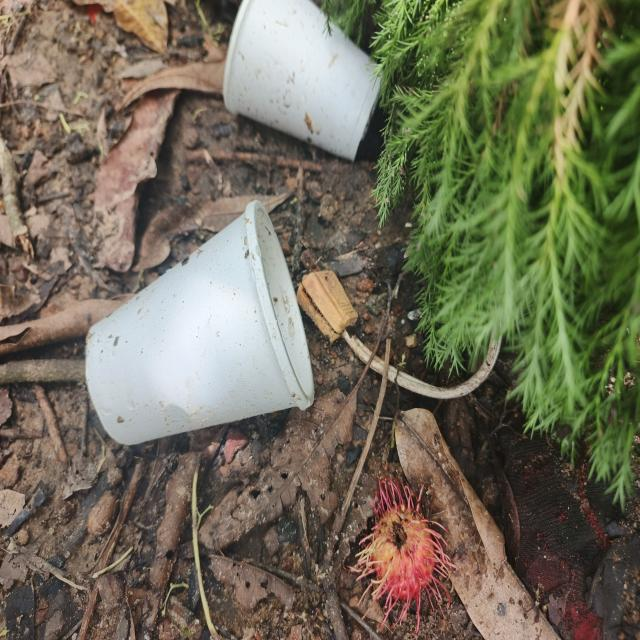plastic: (78, 191, 320, 450), (220, 0, 385, 165)
